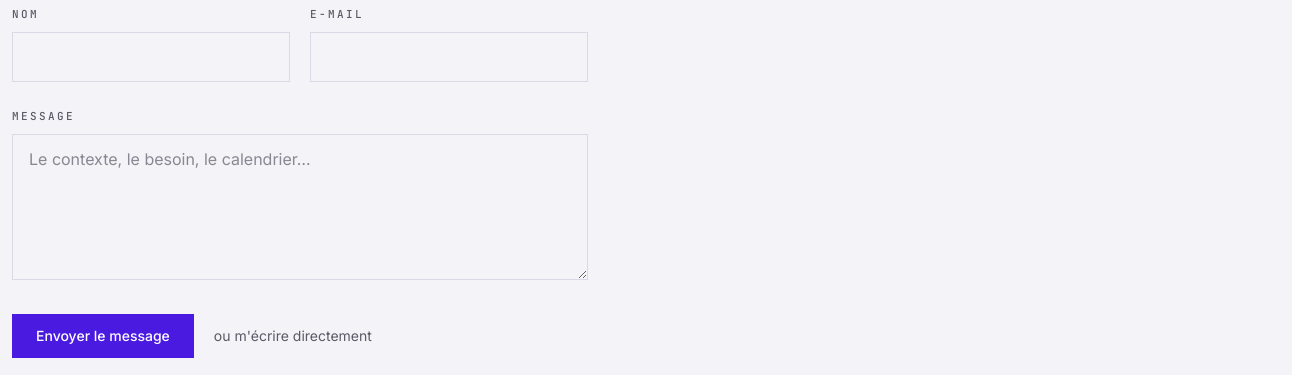
Scenario: <ContactForm /> › posts the message and confirms once it is sent
Type "Camille Dupont" into the field labelled "Nom".
click(151, 57); type("Camille Dupont")  # box [12, 32, 290, 82]
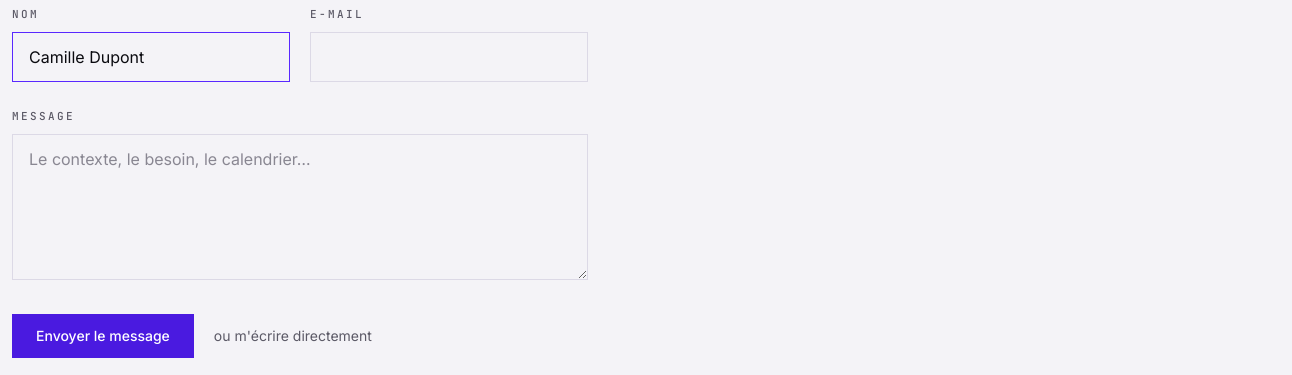
Type "camille@example.com" into the field labelled "E-mail".
click(449, 57); type("camille@example.com")  # box [310, 32, 588, 82]
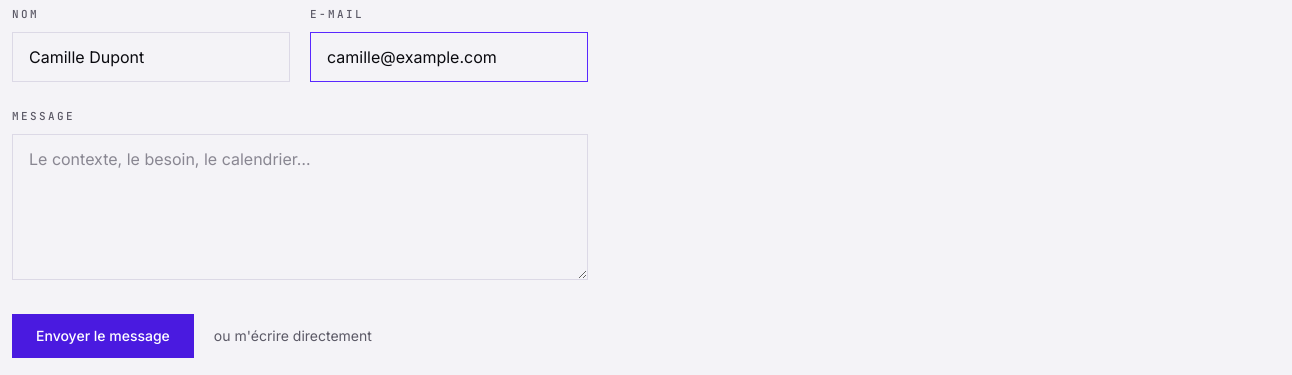
Type "Bonjour, je souhaiterais discuter dune mission de product design." into the text box labelled "Message".
click(300, 207); type("Bonjour, je souhaiterais discuter dune mission de product design.")  # box [12, 134, 588, 280]
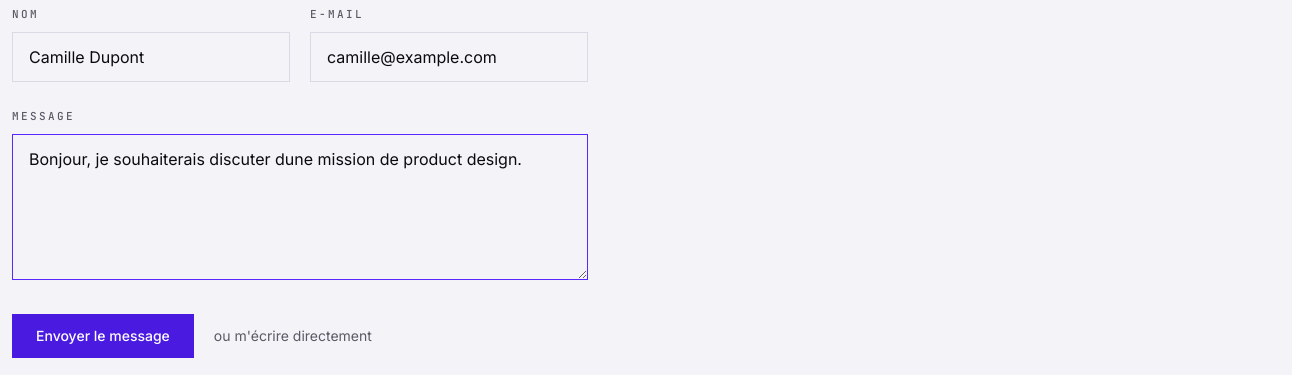
Click the button "Envoyer le message".
click(103, 336)  # box [12, 314, 194, 358]
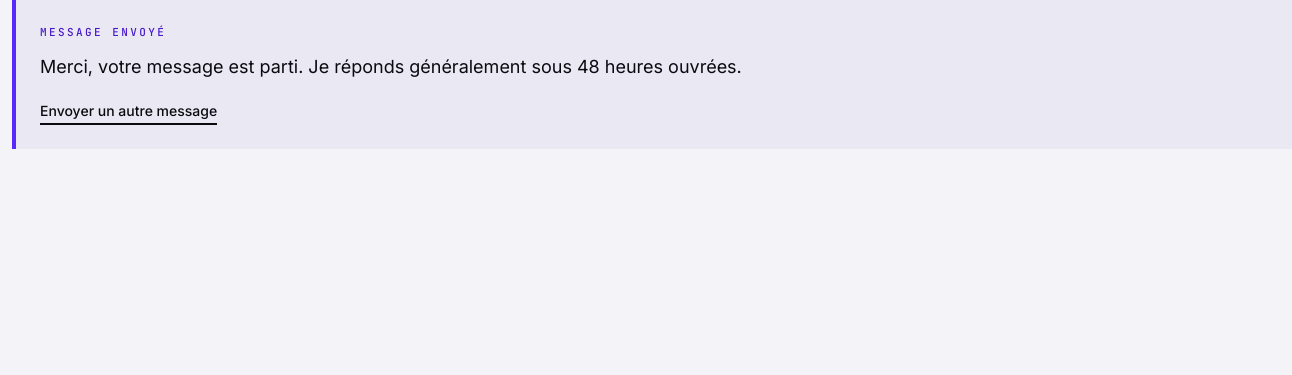
Expected: the text "Message envoyé" is shown, [40, 25, 166, 39]
